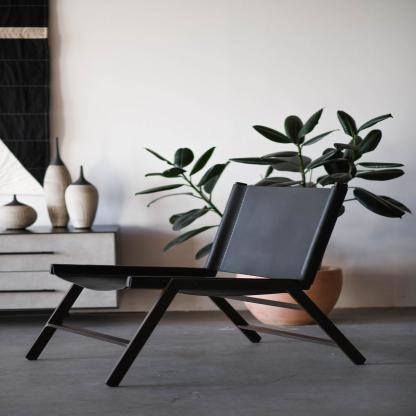chair: (19, 178, 381, 386)
table: (0, 223, 127, 320)
